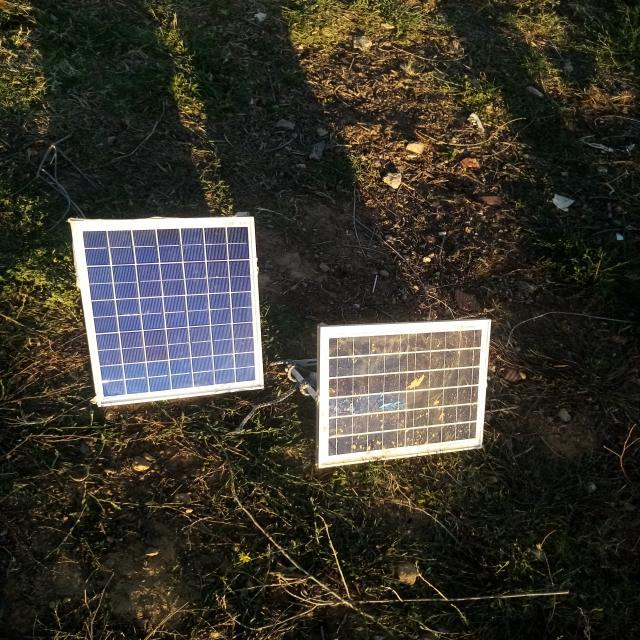faulty: (318, 320, 491, 468)
no faulty: (71, 218, 264, 405)
